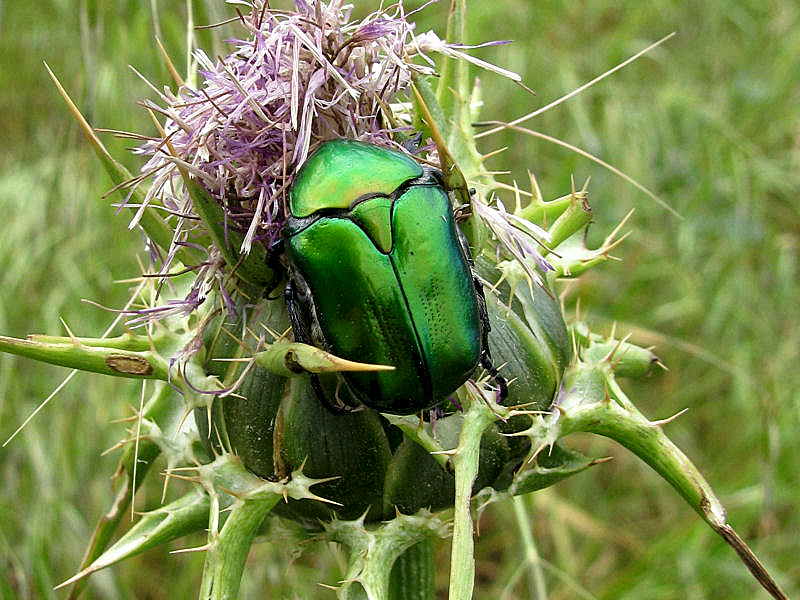Protaetia_cuprea_ignicollis: (263, 128, 500, 420)
